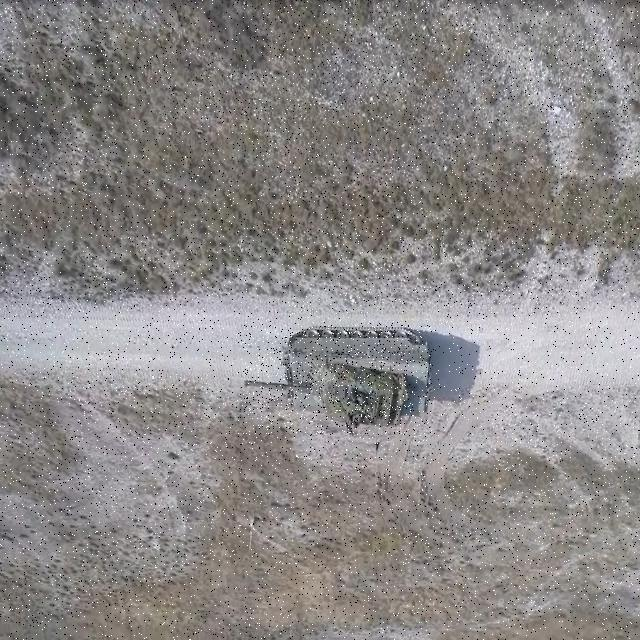MIL_MBT: (243, 325, 433, 435)
